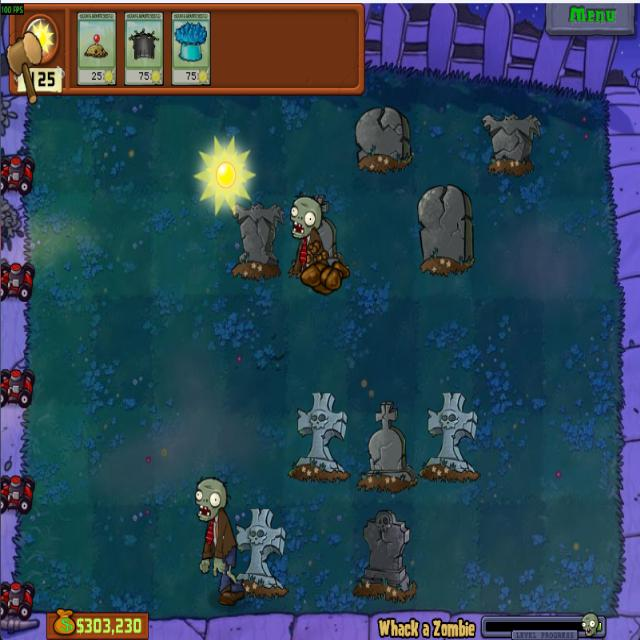grave: (352, 509, 417, 600), (290, 391, 350, 483), (421, 390, 479, 484), (417, 185, 475, 278), (230, 505, 288, 596), (358, 402, 417, 489), (480, 107, 541, 180), (228, 200, 282, 280), (357, 105, 412, 173), (308, 200, 342, 271)
zombie: (287, 192, 325, 238), (192, 478, 228, 524)
